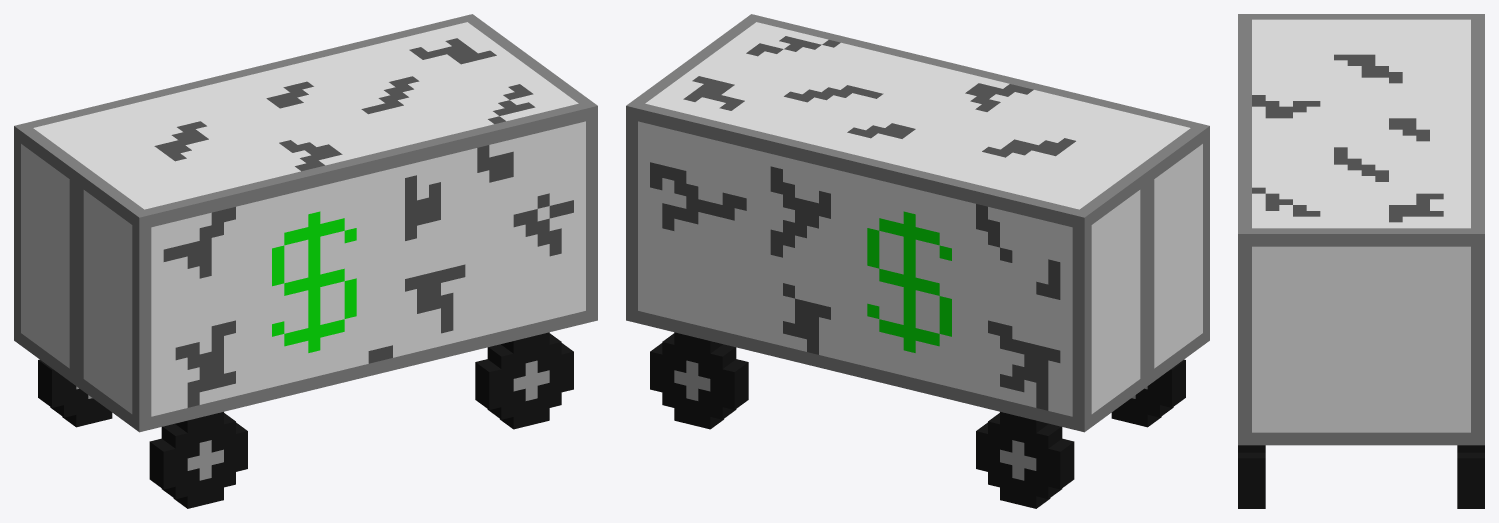
The model's file is container1_health1.obj.
3 renders of one model, left to right at view 1: azimuth 30°, elevation 25°; view 2: azimuth 150°, elevation 25°; view 3: azimuth 270°, elevation 25°, orthographic.
Visible parts, largest first — view 1: container1_health1; view 2: container1_health1; view 3: container1_health1.
Boxes of the visible parts, <box> form: container1_health1: <box>14,14,597,508</box>; container1_health1: <box>626,14,1209,508</box>; container1_health1: <box>1238,14,1484,508</box>.
Bounding box in the file's own units: 38 × 24 × 18.
Materials: 1 (1 with a texture image).
